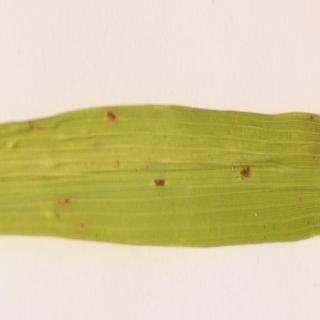bercak-Cokelat: (100, 106, 134, 130), (147, 171, 179, 194), (232, 157, 256, 183)
